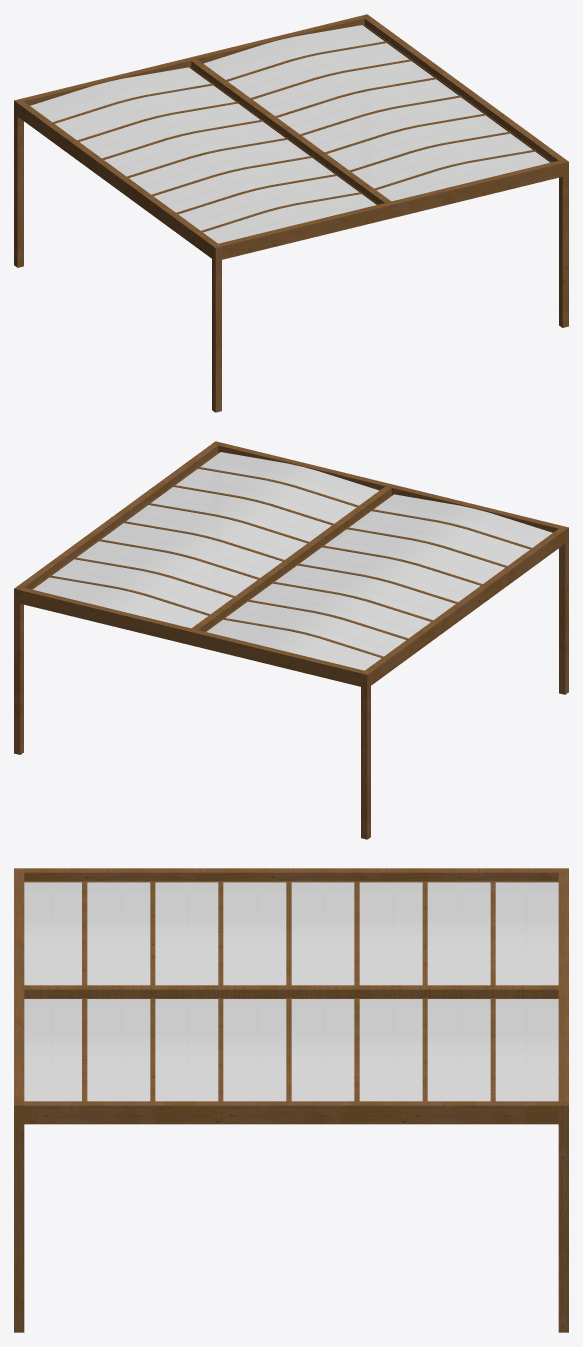
The model's file is hyrcaryaad-h24-w54-d53_naturalpine.fbx.
3 views of the same model, one above another, from view 1: azimuth 30°, elevation 25°; view 2: azimuth 150°, elevation 25°; view 3: azimuth 270°, elevation 25° (orthographic). The views are drawn at different scales.
Visible parts, largest first — view 1: hyrcaryaad-h24-w54-d53-naturalpine; view 2: hyrcaryaad-h24-w54-d53-naturalpine; view 3: hyrcaryaad-h24-w54-d53-naturalpine.
Boxes of the visible parts, x1,y1,x2,y2 form: hyrcaryaad-h24-w54-d53-naturalpine: (14,14,568,412); hyrcaryaad-h24-w54-d53-naturalpine: (14,441,568,839); hyrcaryaad-h24-w54-d53-naturalpine: (14,868,568,1332).
Bounding box in the file's own units: 550 × 245 × 543.
Materials: 2 (1 with a texture image).
